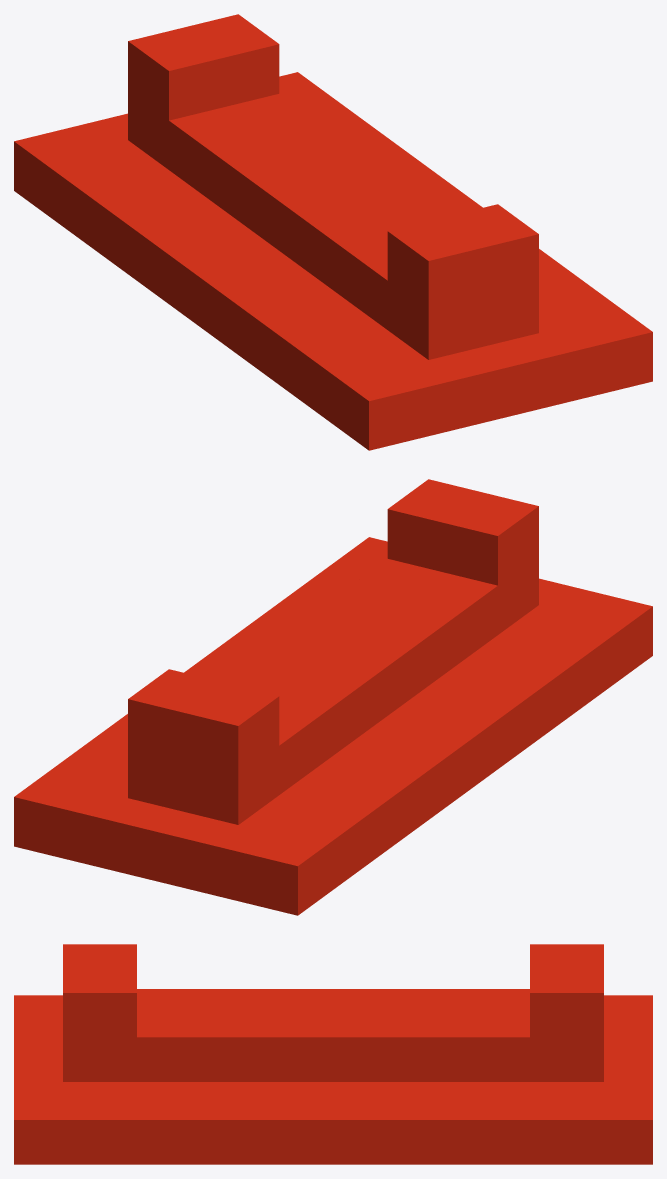
File: playground.glb
3 views of the same model, one above another, from view 1: azimuth 30°, elevation 25°; view 2: azimuth 150°, elevation 25°; view 3: azimuth 270°, elevation 25° (orthographic). The views are drawn at different scales.
Visible parts, largest first — view 1: Cube; view 2: Cube; view 3: Cube.
Part boxes in pixels (bbox=[...]): Cube: bbox=[14, 14, 652, 450]; Cube: bbox=[14, 479, 652, 915]; Cube: bbox=[14, 944, 652, 1164].
Bounding box in the file's own units: 12 × 6 × 26.
